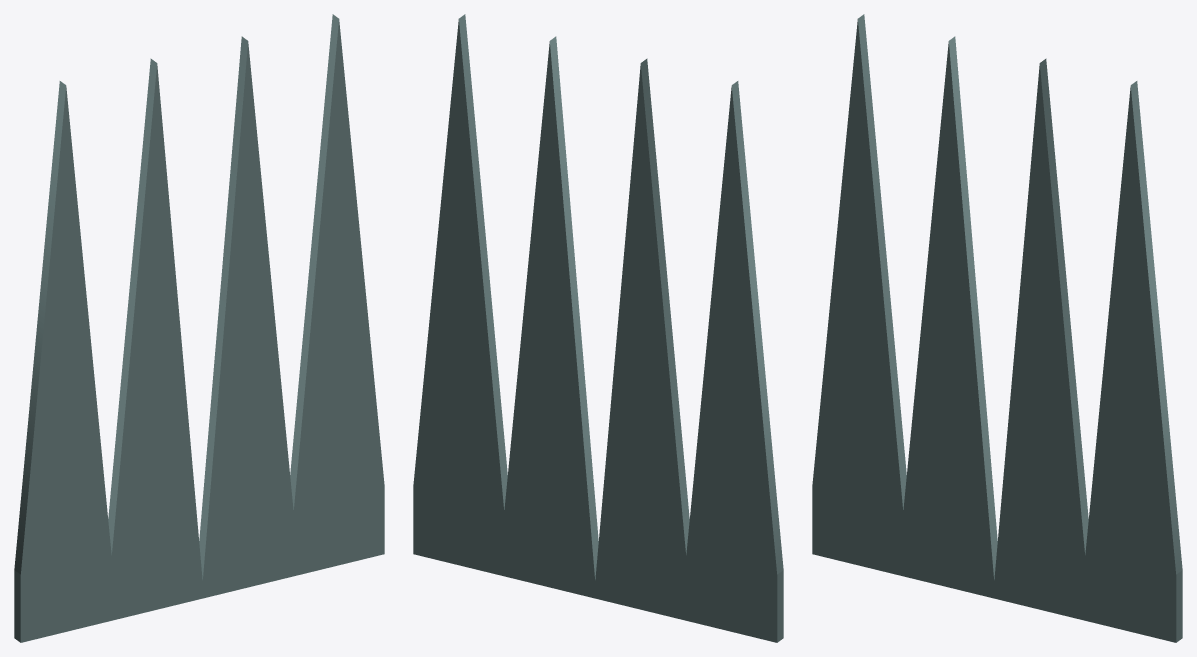
Rendered from grass1.fbx.
3 renders of one model, left to right at view 1: azimuth 30°, elevation 25°; view 2: azimuth 150°, elevation 25°; view 3: azimuth 330°, elevation 25°, orthographic.
Parts seen in each view (by area): view 1: grass1; view 2: grass1; view 3: grass1.
Boxes of the visible parts, box(x1,y1,x2,y2) form: grass1: box(14, 14, 384, 642); grass1: box(413, 14, 783, 642); grass1: box(812, 14, 1182, 642).
Bounding box in the file's own units: 45.38 × 65.15 × 1.4.
